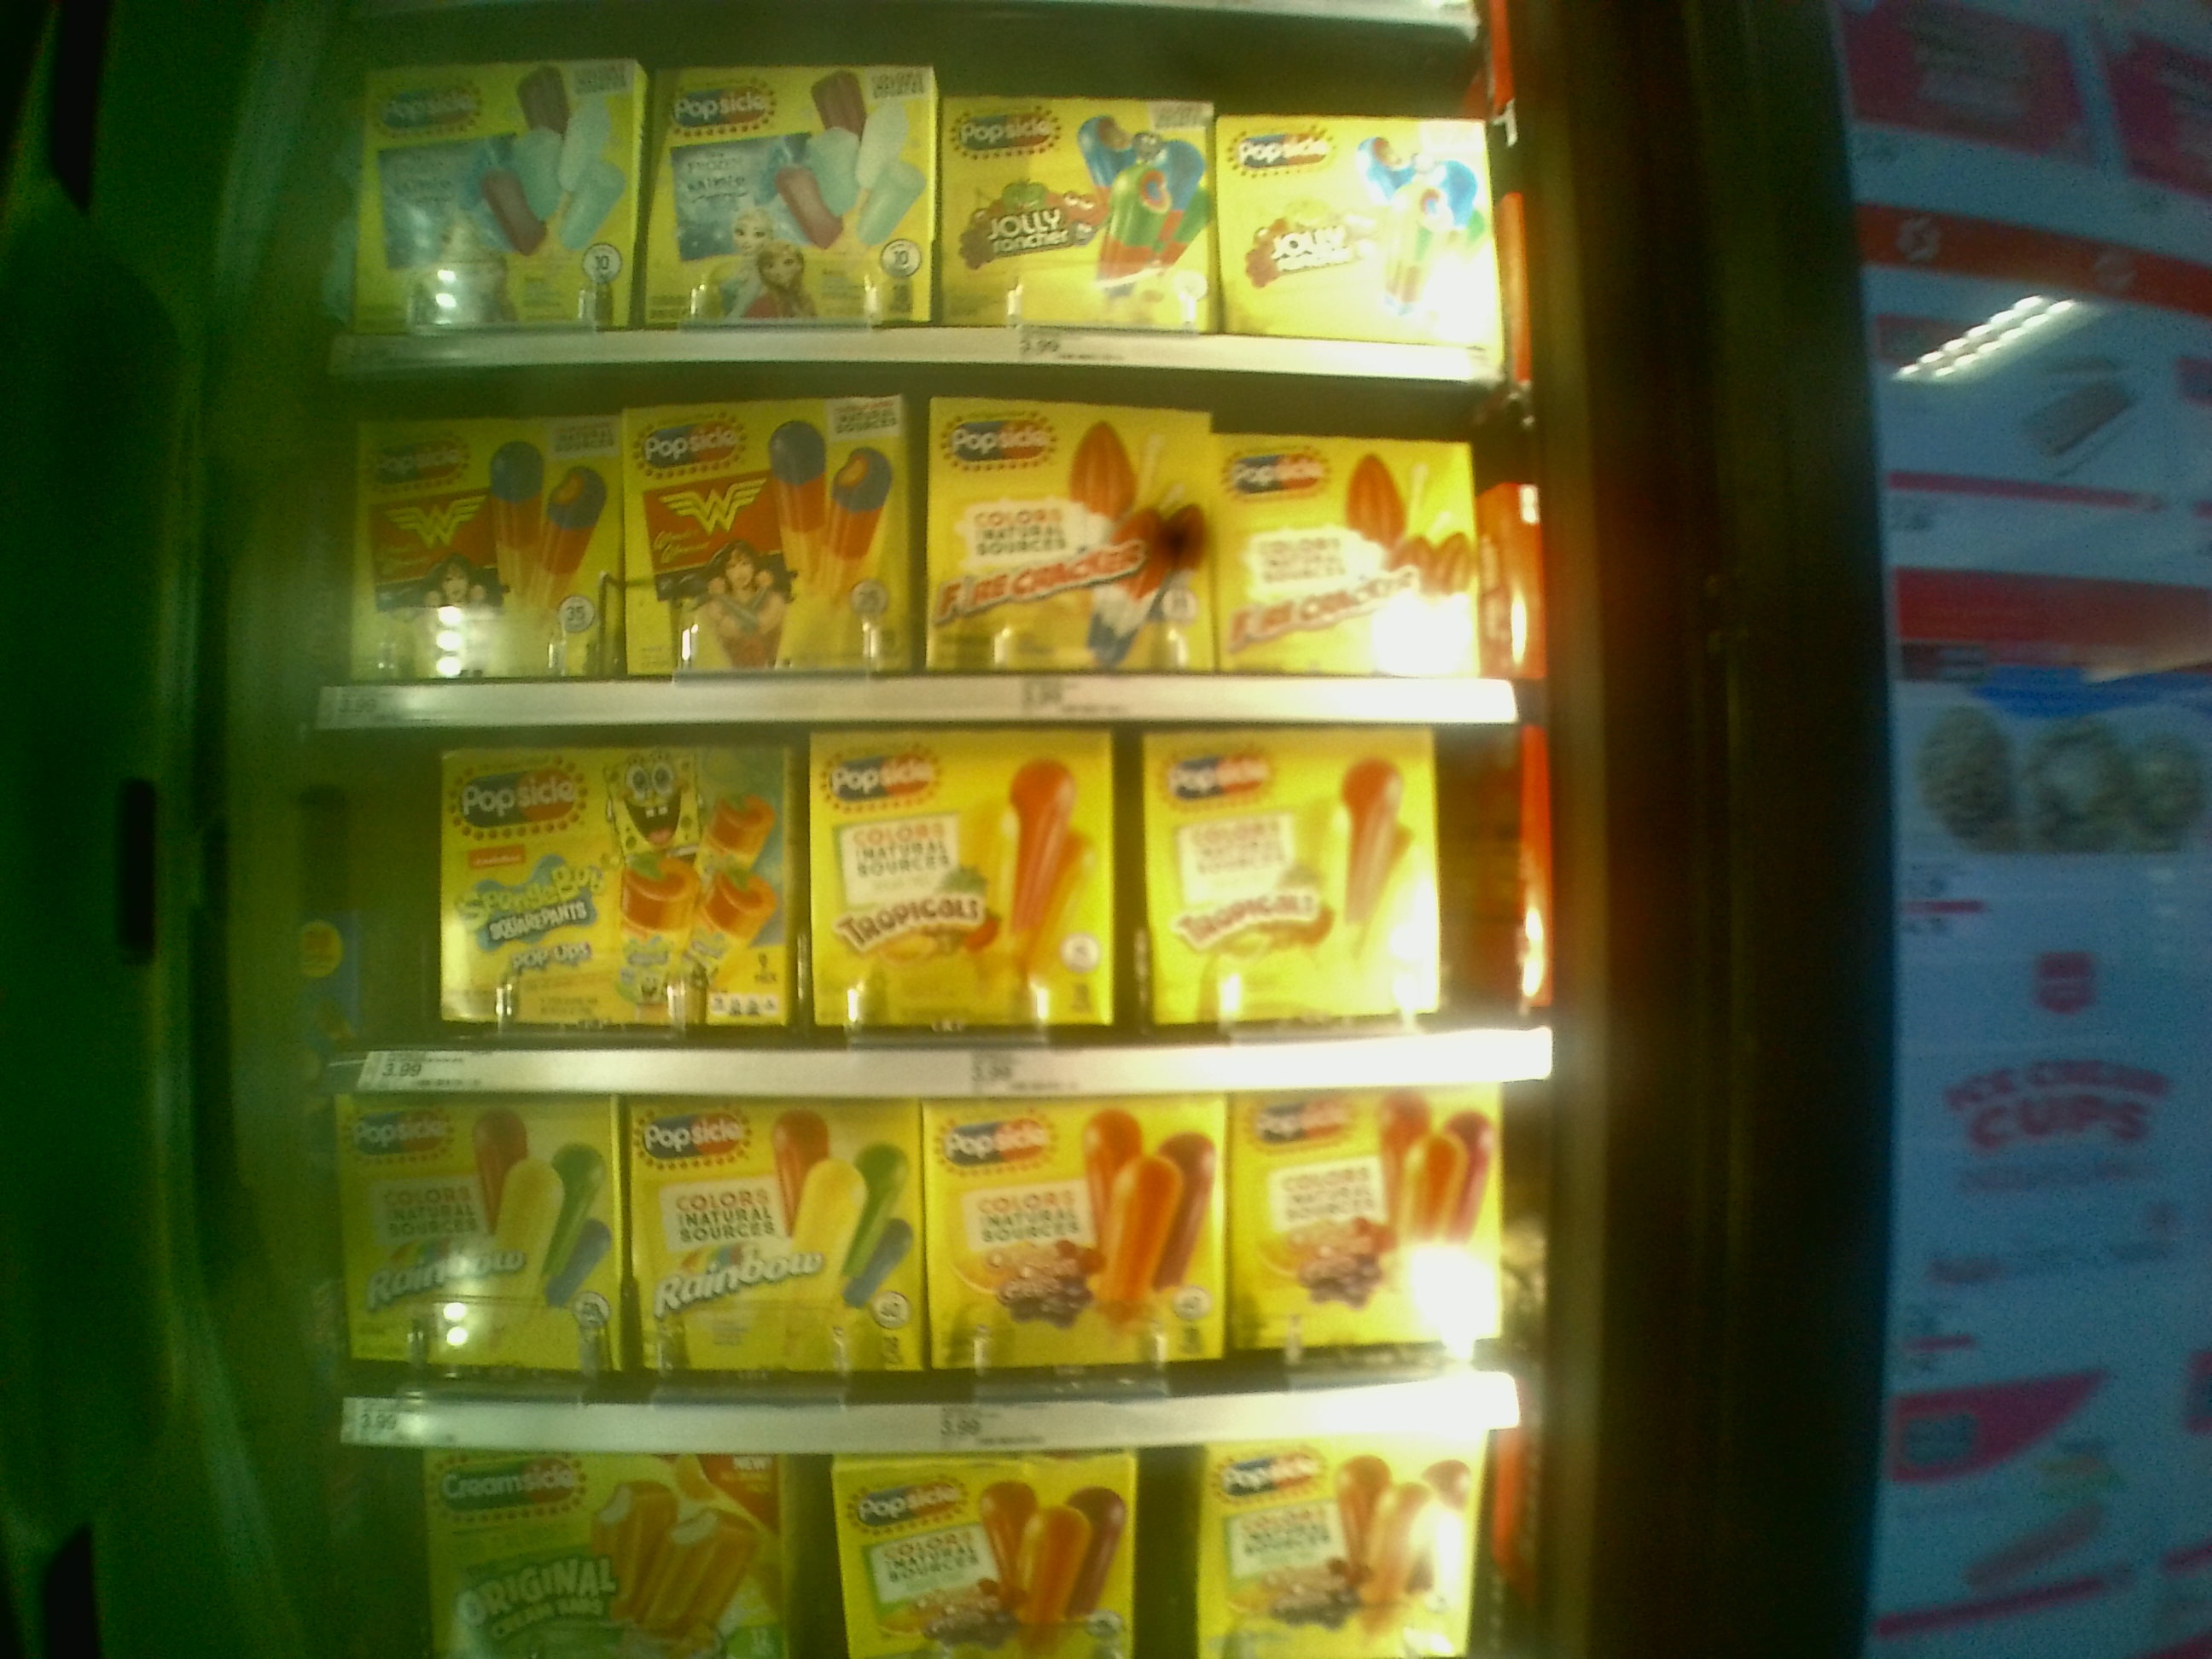frozen-food-shelf: (291, 728, 1555, 1100), (296, 1105, 1587, 1459), (291, 380, 1524, 732)
